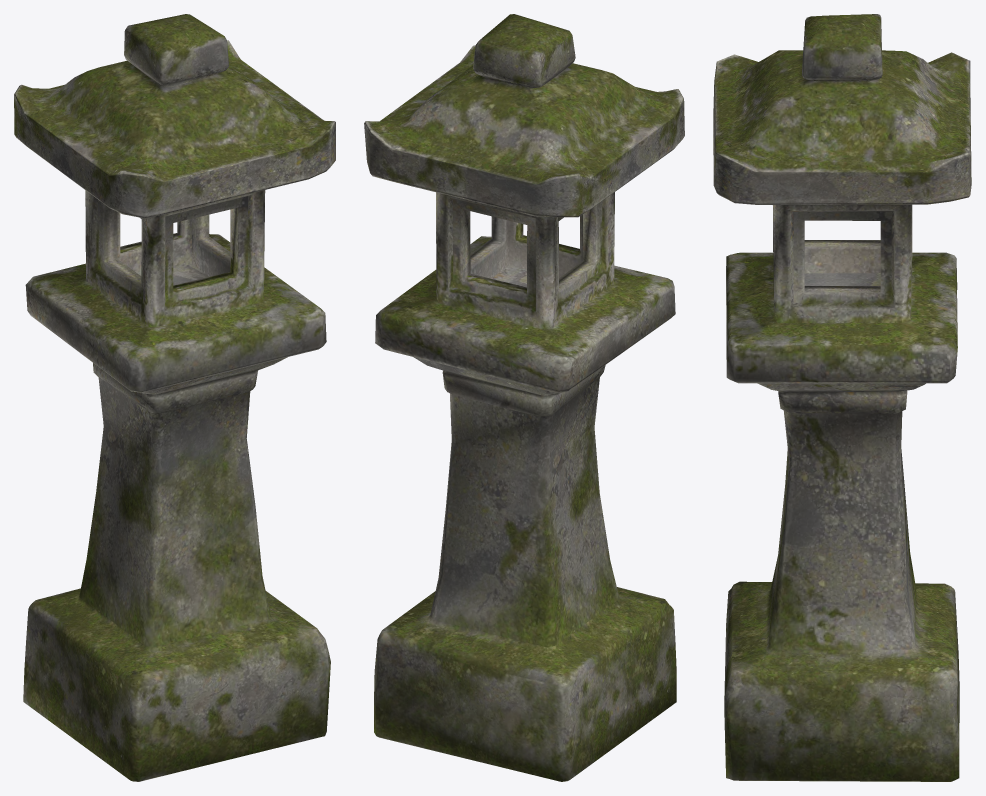
File: stone-lantern.glb
3 views of the same model, side by side, from view 1: azimuth 30°, elevation 25°; view 2: azimuth 150°, elevation 25°; view 3: azimuth 270°, elevation 25° (orthographic). The views are drawn at different scales.
Visible parts, largest first — view 1: Lamp_LoPoly; view 2: Lamp_LoPoly; view 3: Lamp_LoPoly.
Boxes of the visible parts, <box> form: Lamp_LoPoly: <box>14,14,335,781</box>; Lamp_LoPoly: <box>364,14,684,781</box>; Lamp_LoPoly: <box>713,14,971,781</box>.
Size of the model in its own units: 0.7291 by 2.21 by 0.7278.
1 material, 1 textured.
